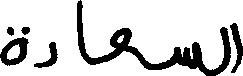X: (0, 22, 25, 70), (176, 37, 199, 74), (110, 23, 130, 64), (37, 37, 56, 72), (219, 22, 229, 75), (77, 0, 84, 75), (233, 18, 242, 75)
